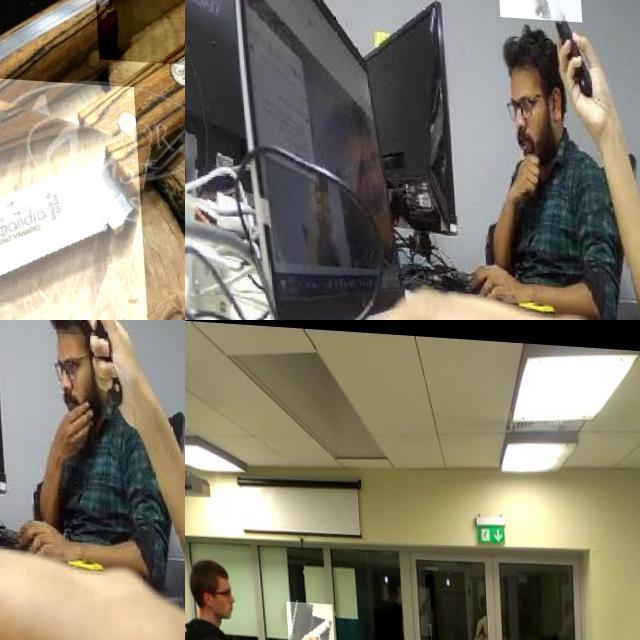-: (0, 64, 178, 320), (87, 0, 185, 99), (46, 320, 115, 409), (492, 0, 579, 64)
gun-knife-thesis - v11 Yolov5 augmented: (282, 598, 331, 640)
